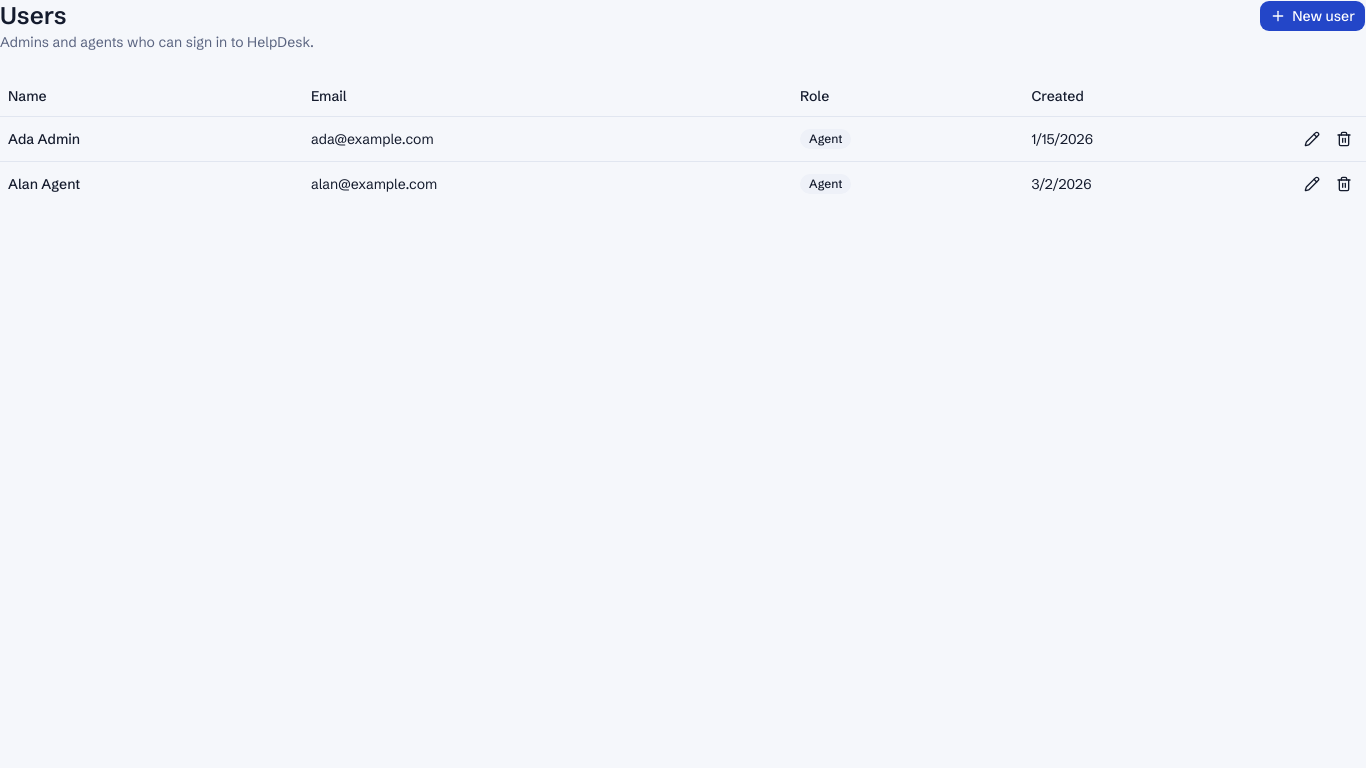
UsersPage › Delete user confirmation › closes and reloads the users after deleting
This screenshot has width=1366, height=768.
Check: the table is shown, box [0,76,1365,206]
Step 1. Click the button named "Delete Alan Agent" → [1344, 184], box [1330,170,1358,198]
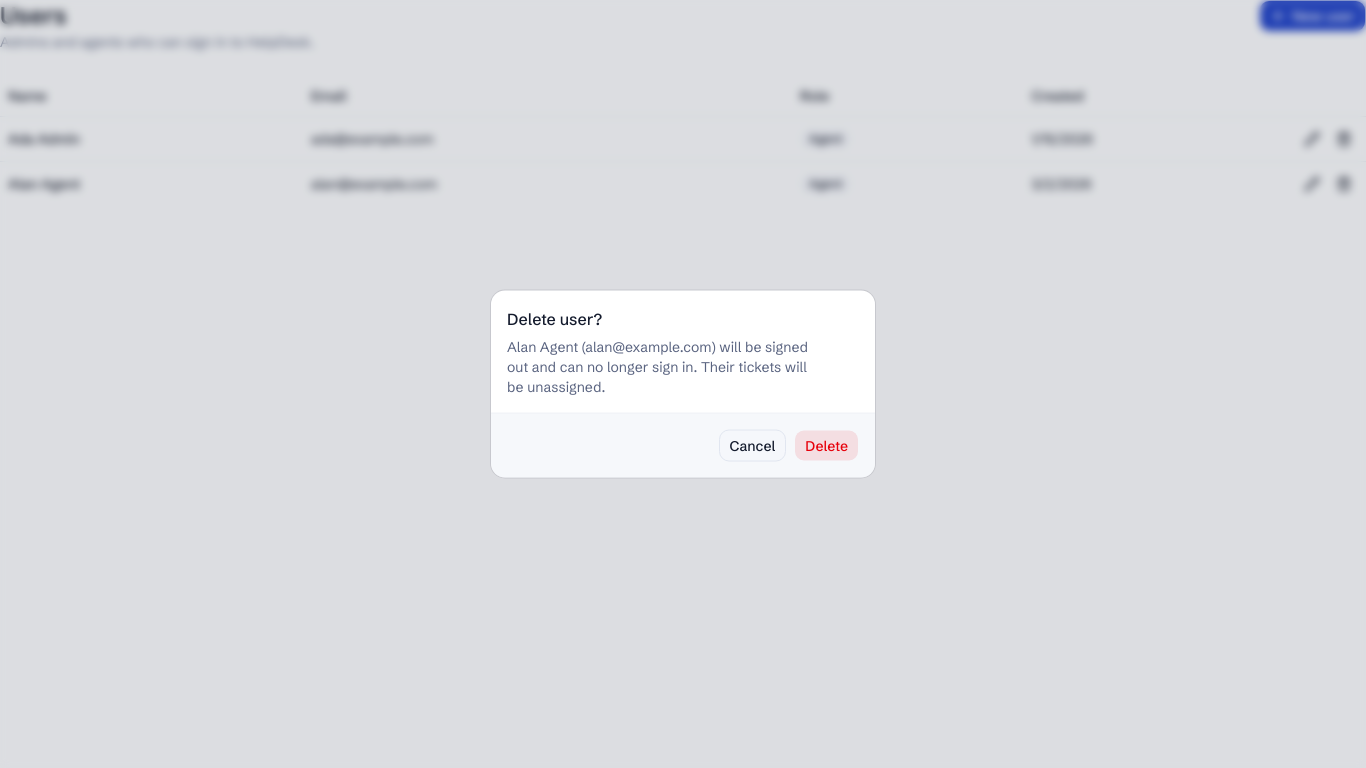
Step 2. Click the button "Delete" → [827, 446], box [794,430,859,462]
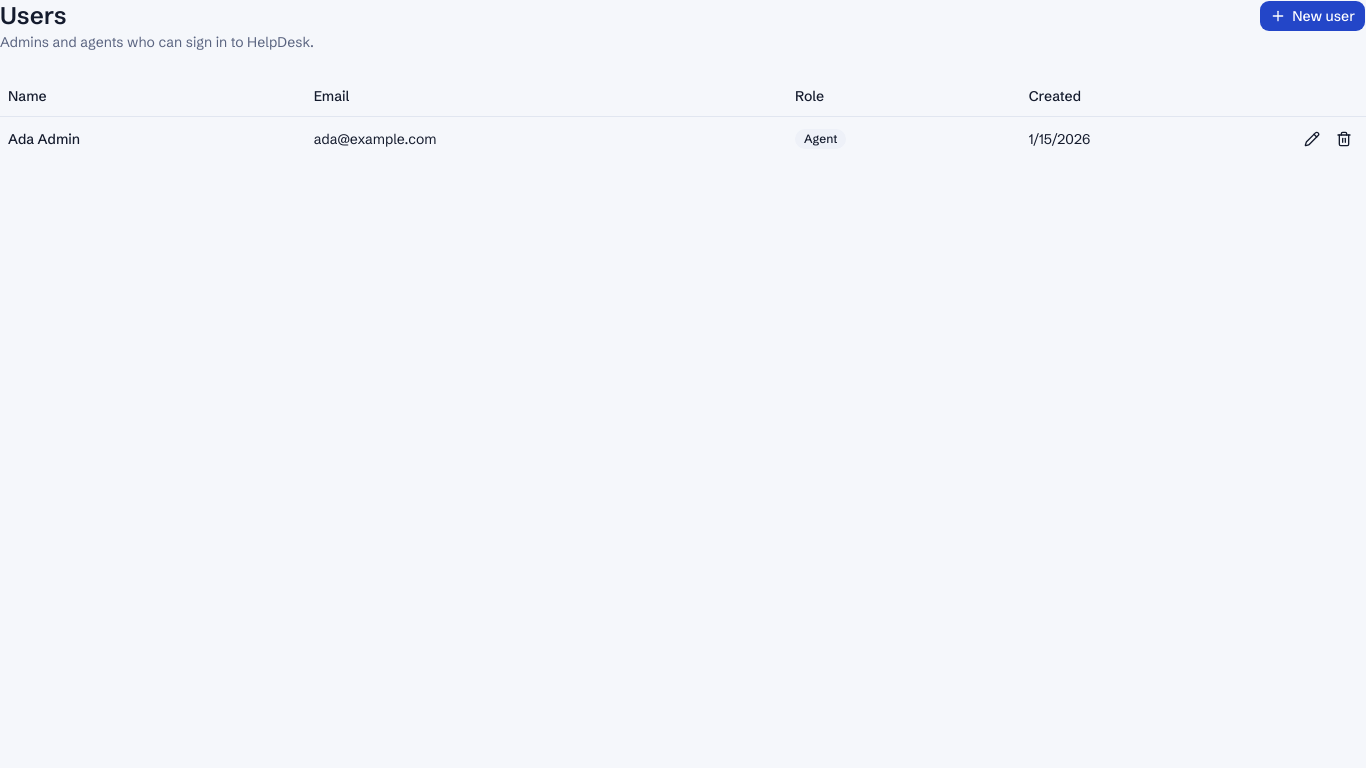
Check: the heading "Delete user?" is gone
Check: the cell "Alan Agent" is gone
